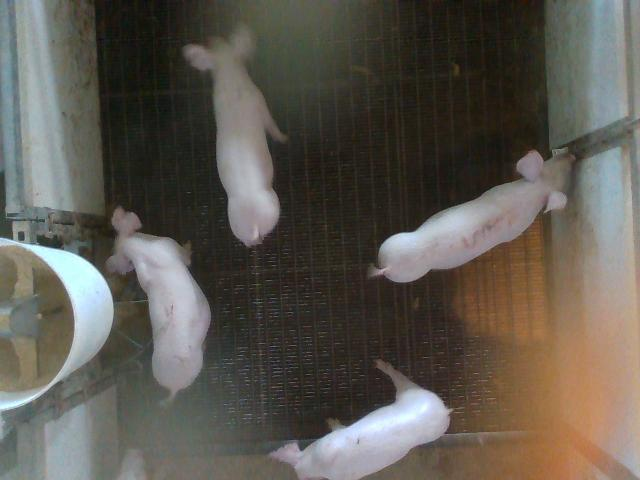pig-3: (369, 150, 575, 282)
